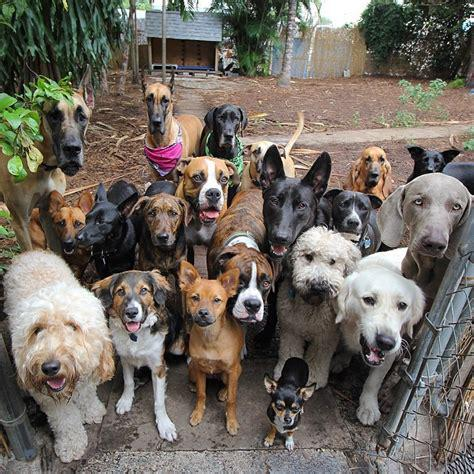dog: (5, 251, 114, 462), (1, 63, 92, 250), (340, 247, 423, 425), (92, 270, 178, 440), (274, 221, 360, 387), (179, 260, 242, 435), (206, 162, 274, 323), (377, 173, 470, 276), (264, 145, 331, 259), (140, 67, 204, 182), (128, 181, 191, 272), (76, 180, 135, 271), (175, 157, 233, 245), (264, 353, 317, 449), (326, 187, 382, 255), (48, 188, 93, 268), (199, 105, 248, 157), (405, 146, 474, 182), (350, 147, 391, 200)
